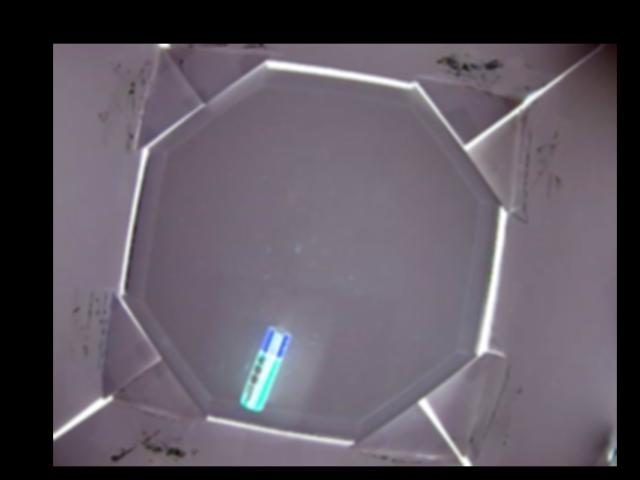Battery: (238, 327, 290, 413)
